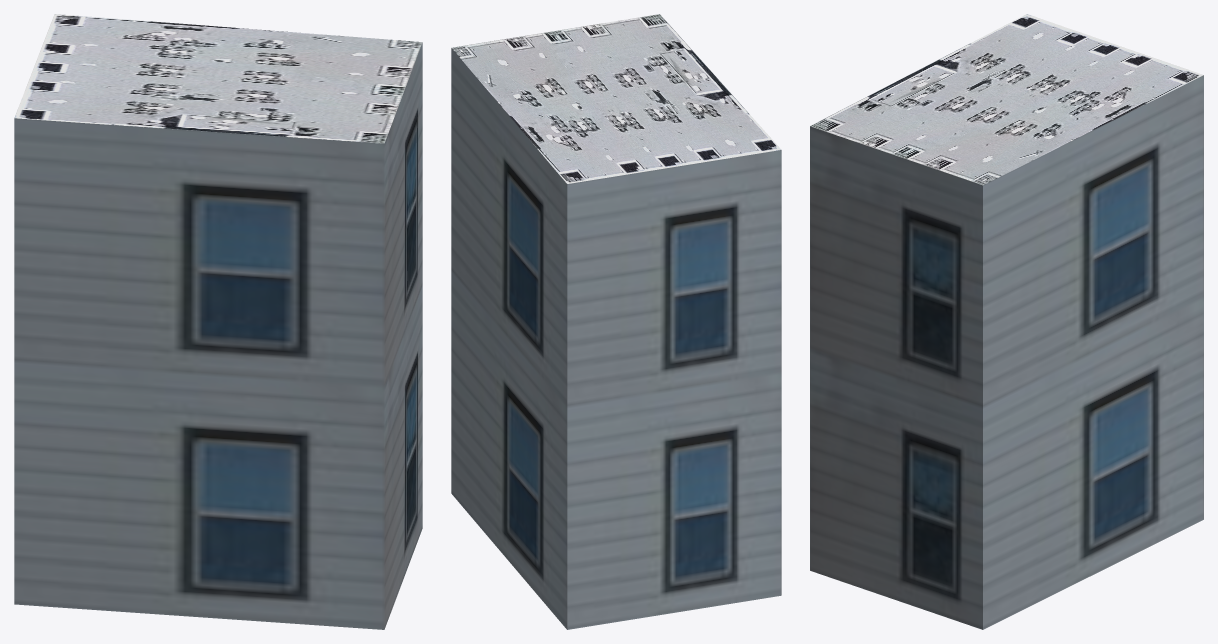
Rendered from ResTex__2868.fbx.
The picture shows the model from 3 angles, left to right: view 1: azimuth 30°, elevation 25°; view 2: azimuth 150°, elevation 25°; view 3: azimuth 270°, elevation 25°; orthographic projection. The views are drawn at different scales.
Visible parts, largest first — view 1: CityEngineMaterial_18_m, CityEngineMaterial_4_m; view 2: CityEngineMaterial_18_m, CityEngineMaterial_4_m; view 3: CityEngineMaterial_18_m, CityEngineMaterial_4_m.
Part boxes in pixels (x1,y1,x2,y2): CityEngineMaterial_18_m: (14,43,422,629); CityEngineMaterial_4_m: (14,14,422,143); CityEngineMaterial_18_m: (451,48,781,629); CityEngineMaterial_4_m: (451,14,781,183); CityEngineMaterial_18_m: (810,75,1203,629); CityEngineMaterial_4_m: (810,14,1203,185).
Bounding box in the file's own units: 4.96 × 6 × 4.82.
2 materials, 2 textured.
